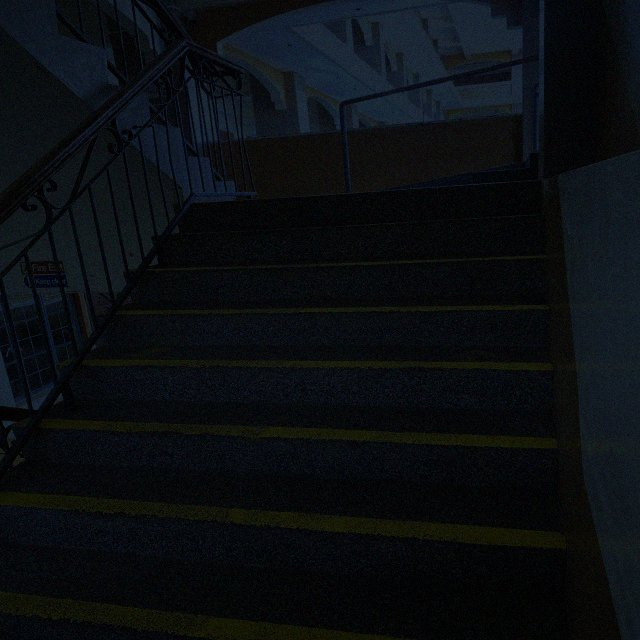stair: (0, 182, 566, 639)
